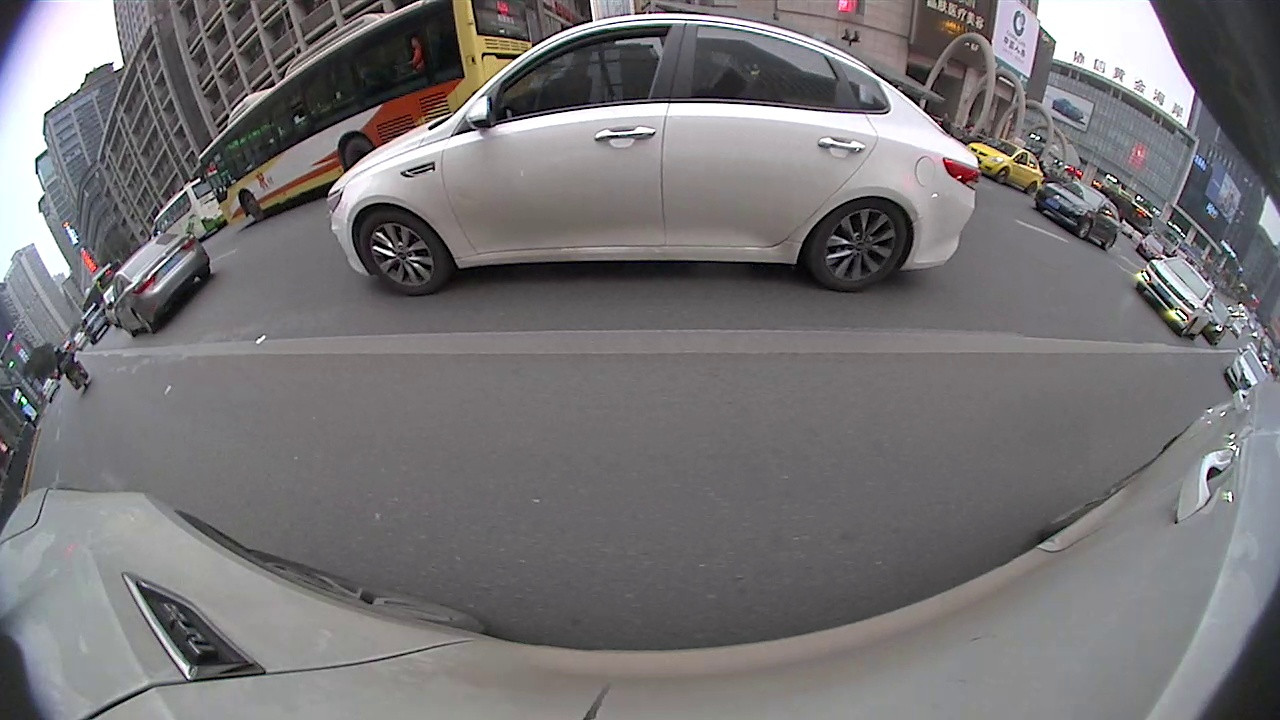bus: (194, 0, 536, 236)
car: (328, 12, 981, 298), (104, 231, 216, 339), (1137, 251, 1221, 339), (1033, 179, 1129, 253), (966, 138, 1051, 196), (1224, 340, 1270, 396)
front: (357, 209, 445, 297), (1077, 218, 1094, 242)
rear: (807, 201, 907, 296), (342, 135, 370, 168), (1101, 233, 1116, 252)
rider: (52, 344, 92, 396)
